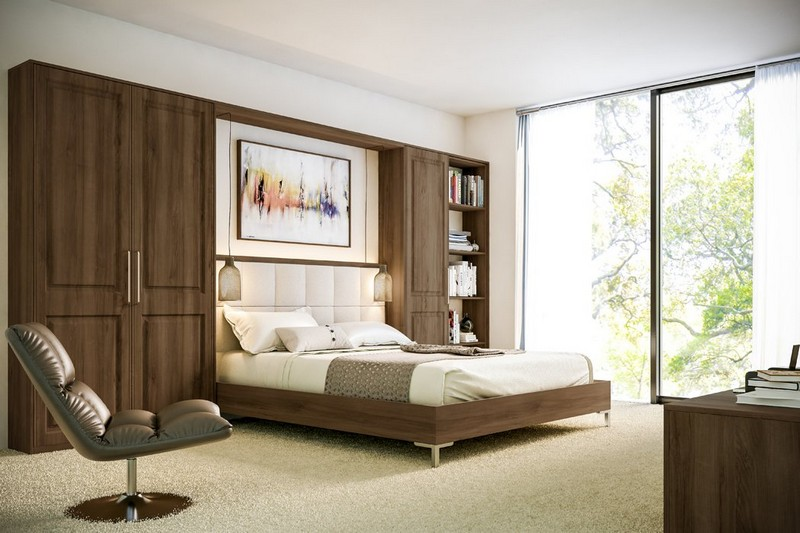bed: (215, 256, 615, 462)
chair: (4, 317, 231, 515)
lamp: (215, 255, 244, 310), (369, 260, 398, 311)
table: (653, 393, 796, 523)
